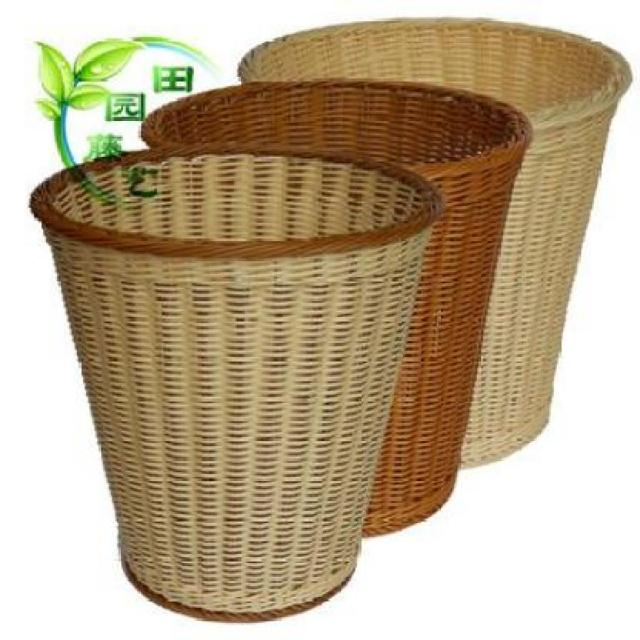dustbin: (28, 138, 449, 631), (135, 72, 538, 543), (232, 12, 637, 476)
